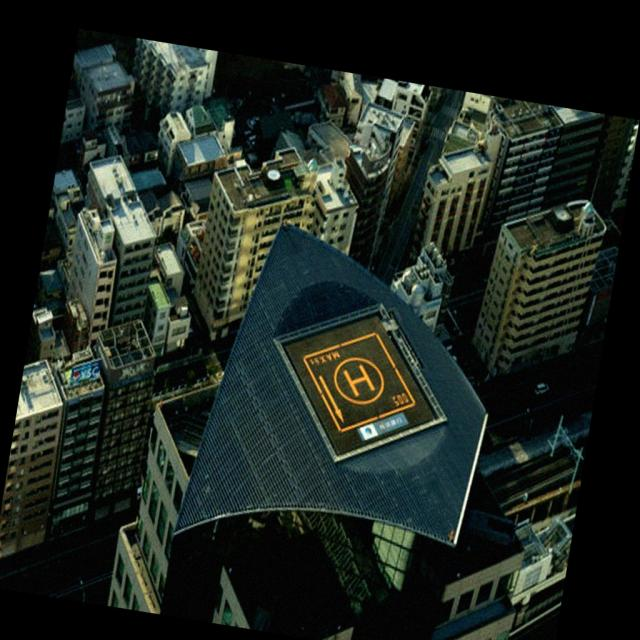helipad: (333, 356, 385, 406)
